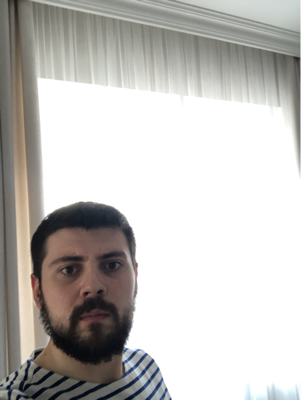without_mask: (40, 246, 135, 364)
